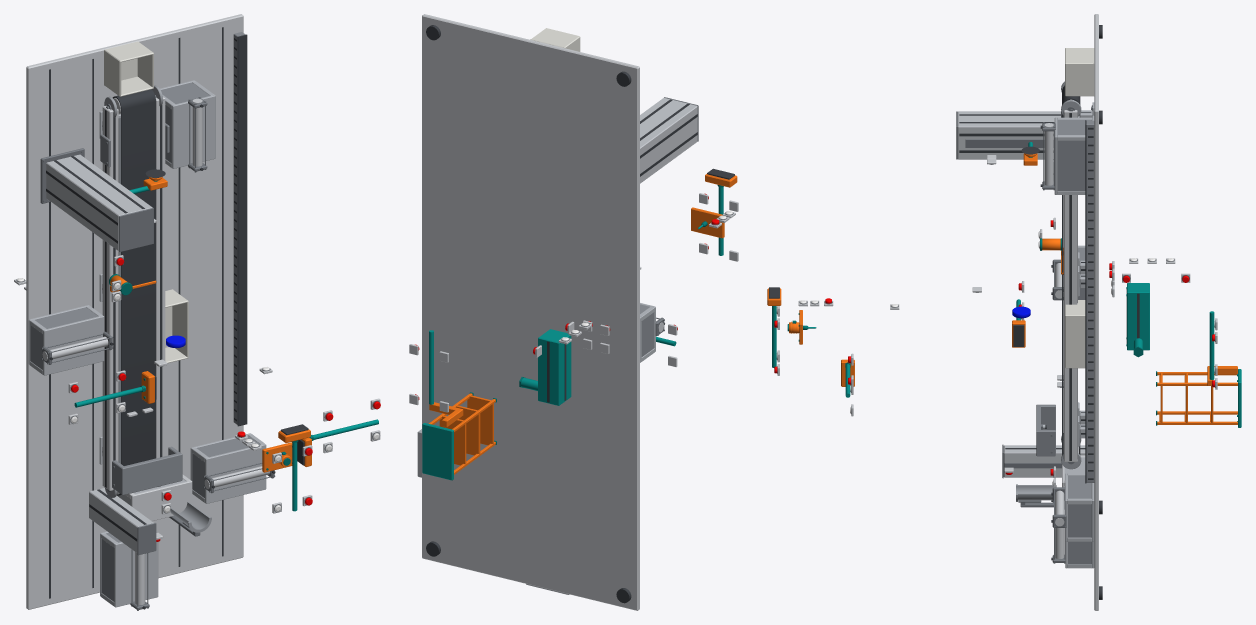
The model's file is mps.fbx.
3 renders of one model, left to right at view 1: azimuth 30°, elevation 25°; view 2: azimuth 150°, elevation 25°; view 3: azimuth 270°, elevation 25°, orthographic. The views are drawn at different scales.
Visible parts, largest first — view 1: Base:1, ConveyorBelt, ConveyorBody, LiftFrame, CableDuct, CylinderBaseNormal.002, CylinderBaseNormal, CylinderBaseNormal.003, CylinderBaseNormal.001, DrillStage, SorterTop, WorkTableBlock (+9 smaller); view 2: Base:1, LiftFrame, CylinderBaseShort, ShelfBase, CylinderBaseNormal.002, Shelft:1, Shelft:2, DrillBase, Shelft:3, WallYp.001; view 3: LiftFrame, CableDuct, ConveyorBody, Base:1, CylinderBaseNormal.003, CylinderBaseNormal, DrillStage, CylinderBaseShort, WallXn, WallXn.001, CylinderBaseNormal.001, ConveyorBelt (+1 smaller).
Boxes of the visible parts, x1,y1,x2,y2 form: Base:1: (26,14,243,609); ConveyorBelt: (112,89,155,495); ConveyorBody: (102,97,165,490); LiftFrame: (40,148,153,251); CableDuct: (233,32,247,426); CylinderBaseNormal.002: (28,305,104,375); CylinderBaseNormal: (190,433,266,503); CylinderBaseNormal.003: (160,80,215,168); CylinderBaseNormal.001: (100,531,158,607); DrillStage: (89,488,156,555); SorterTop: (120,453,182,494); WorkTableBlock: (117,474,192,520); Base:1: (422,14,639,610); LiftFrame: (640,97,698,183); CylinderBaseShort: (538,329,571,405); ShelfBase: (422,423,453,480); CylinderBaseNormal.002: (640,303,655,362); Shelft:1: (467,395,493,445); Shelft:2: (456,405,480,455); DrillBase: (691,207,724,238); Shelft:3: (439,415,466,465); WallYp.001: (532,28,578,47); LiftFrame: (956,105,1092,159); CableDuct: (1085,120,1094,483); ConveyorBody: (1063,110,1077,461); Base:1: (1094,14,1102,610); CylinderBaseNormal.003: (1054,117,1094,194); CylinderBaseNormal: (1065,473,1094,541); DrillStage: (1002,444,1085,478); CylinderBaseShort: (1126,283,1149,350); WallXn: (1065,315,1085,368); WallXn.001: (1065,62,1093,96); CylinderBaseNormal.001: (1065,542,1094,568); ConveyorBelt: (1062,85,1080,455).
Bounding box in the file's own units: 0.526 × 1.21 × 1.03.
